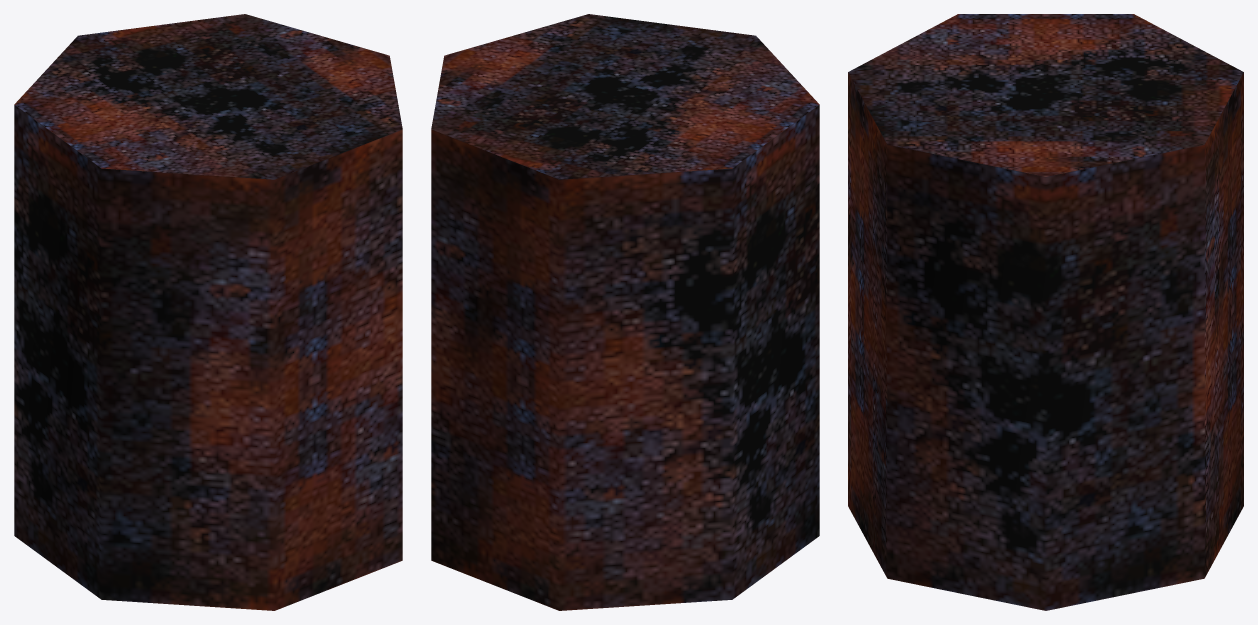
Rendered from FuelDrum3.glb.
3 renders of one model, left to right at view 1: azimuth 30°, elevation 25°; view 2: azimuth 150°, elevation 25°; view 3: azimuth 270°, elevation 25°, orthographic.
Visible parts, largest first — view 1: FUELDRUM3; view 2: FUELDRUM3; view 3: FUELDRUM3.
Part boxes in pixels (x1,y1,x2,y2): FUELDRUM3: [14, 14, 402, 610]; FUELDRUM3: [431, 14, 819, 610]; FUELDRUM3: [848, 14, 1243, 610].
Size of the model in its own units: 1.01 by 1.25 by 1.04.
1 material, 1 textured.
